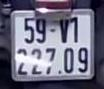0: (61, 47, 75, 75)
1: (71, 15, 81, 44)
2: (15, 47, 29, 76), (31, 48, 42, 75)
5: (21, 15, 35, 45)
7: (45, 47, 57, 76)
9: (35, 17, 49, 45), (76, 46, 90, 74)
V: (57, 17, 69, 44)
